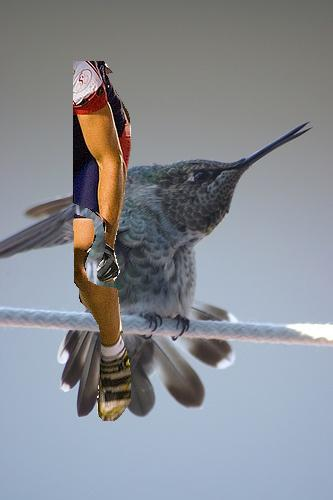tampered: (74, 62, 131, 421)
